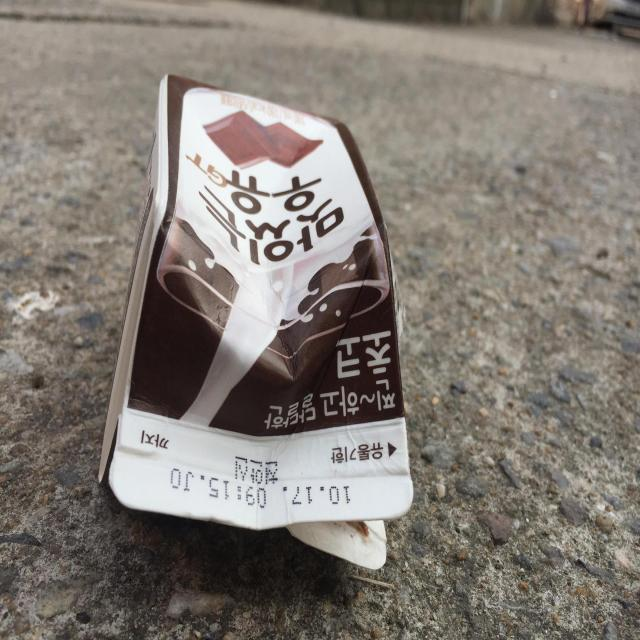paperpack: (98, 75, 414, 569)
